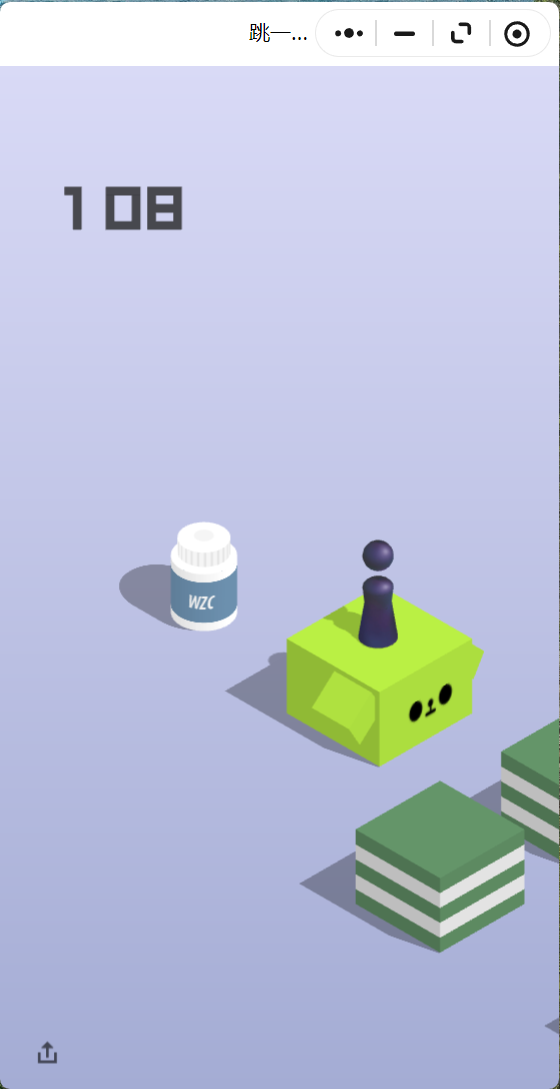piece: (363, 540, 393, 644)
target: (177, 521, 230, 552)
